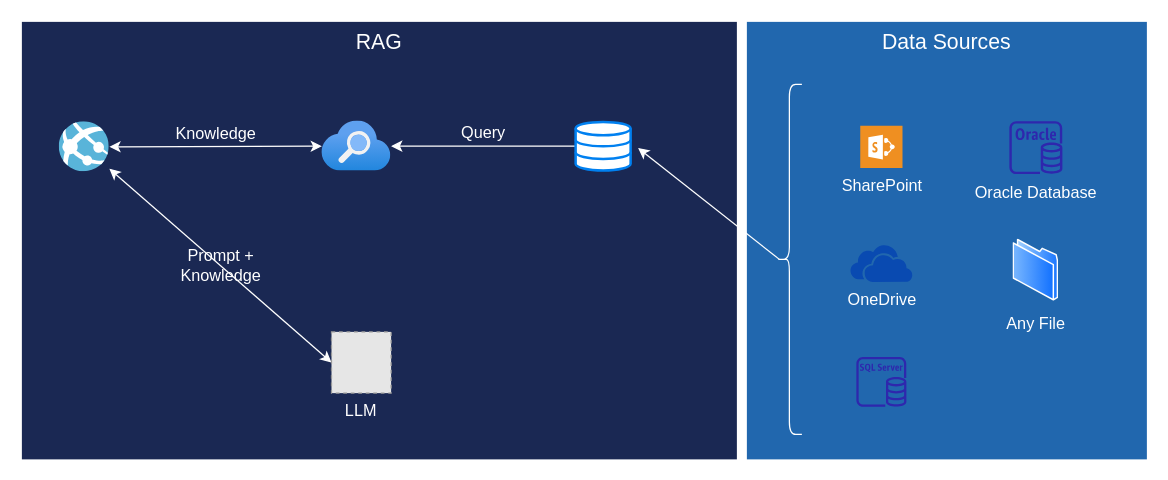
The diagram is 1168 pixels wide and 480 high, and some of its shapes have lost their labels. Grey dashed boxes stand in for pictures. The shapes that lost their labels are listed below. From the top down, each one's centre as x and y in pixels, then its label:
At [84,146]: "APP Service".
At [355,145]: "Semantic Search".
At [602,145]: "Vector Database".
At [881,381]: "SQL Server Database".
